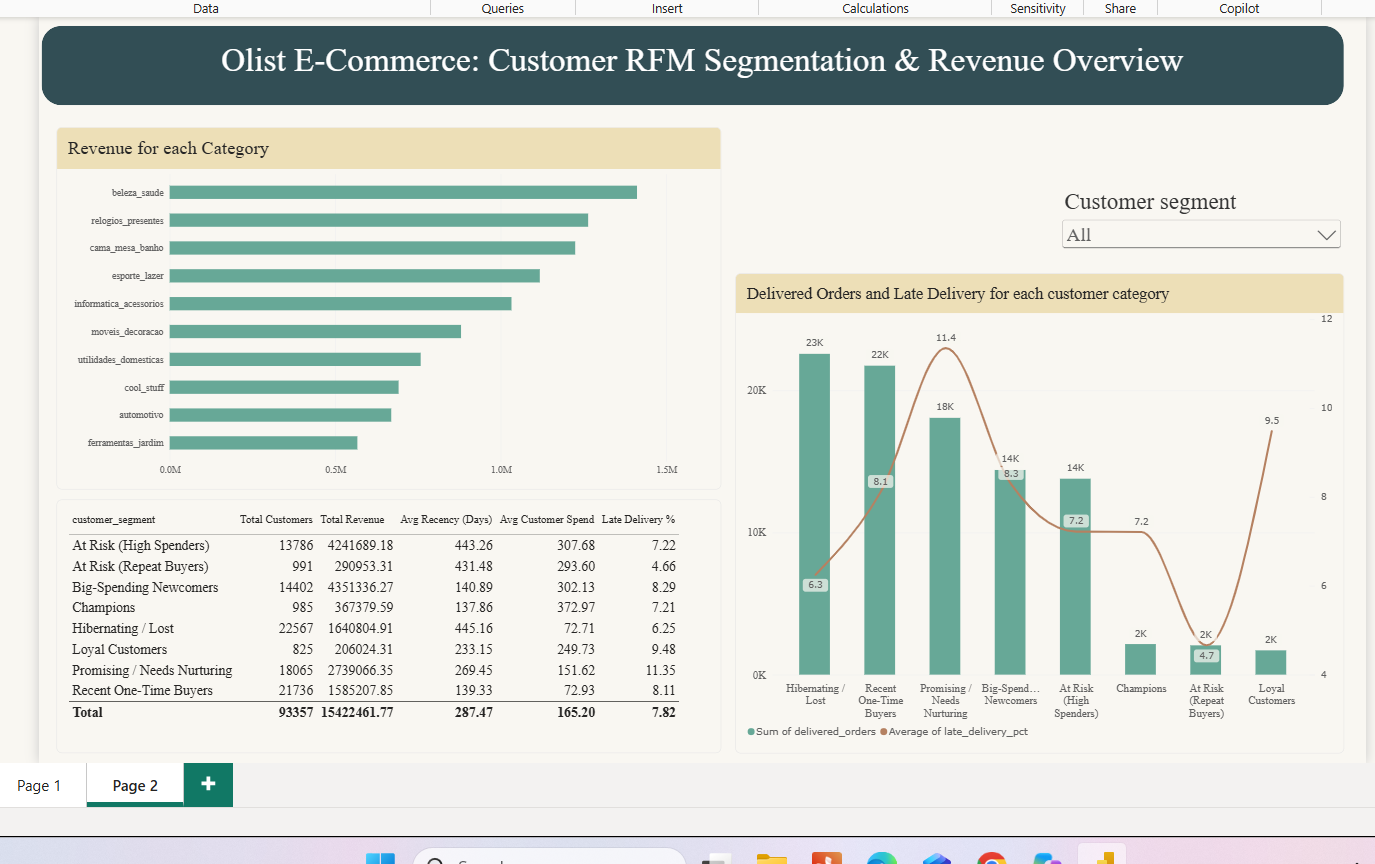

Layout of this report page (visuals, bound fields, positions):
{"tool":"powerbi","page":{"name":"Page 2","canvas":[1920,1080],"ordinal":1},"visuals":[{"type":"shape","box":[3.6,12.7,1885.4,115.3],"z":0},{"type":"textbox","box":[59.7,35,1801,70],"z":1000},{"type":"slicer","fields":{"Values":["Dim_Segments.customer_segment"]},"box":[1476.7,247.9,412.6,88.7],"z":2000},{"type":"clusteredBarChart","title":"Revenue for each Category","fields":{"Category":["agg_segment_categories (2).category"],"Y":["Sum(agg_segment_categories (2).category_revenue)"]},"box":[25.3,159.3,962.7,524.8],"z":3000},{"type":"lineClusteredColumnComboChart","title":"Delivered Orders and Late Delivery for each customer category","fields":{"Category":["Dim_Segments.customer_segment"],"Y":["Sum(agg_segment_delivery.delivered_orders)"],"Y2":["Avg(agg_segment_delivery.late_delivery_pct)"]},"box":[1008,371,881.3,694.9],"z":4000},{"type":"tableEx","fields":{"Values":["Dim_Segments.customer_segment","_Measures.Total Customers","_Measures.Total Revenue","_Measures.Avg Recency (Days)","_Measures.Avg Customer Spend","Avg(agg_segment_delivery.late_delivery_pct)"]},"box":[25.3,698.5,962.7,367.4],"z":5000}]}

Visuals, with their boxes on the page's 1920x1080 design canvas (x1, y1, x2, y2). These are canvas units, not pixel positions in the 1375x864 screenshot, which may show the page scaled, cropped or inside an application window:
shape: (4,13,1889,128)
textbox: (60,35,1861,105)
slicer - Dim_Segments.customer_segment: (1477,248,1889,337)
"Revenue for each Category" clusteredBarChart: (25,159,988,684)
"Delivered Orders and Late Delivery for each customer category" lineClusteredColumnComboChart: (1008,371,1889,1066)
tableEx - Dim_Segments.customer_segment x _Measures.Total Customers: (25,698,988,1066)
